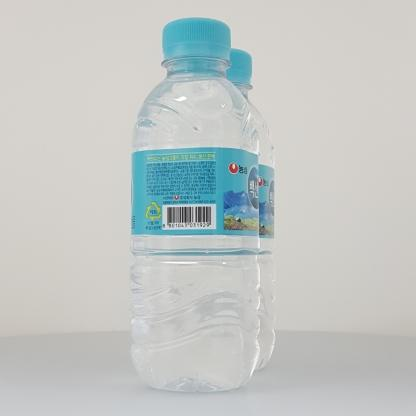-----330ML: (130, 17, 260, 392)
